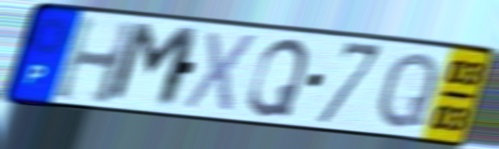7: (313, 39, 387, 127)
H: (50, 12, 142, 108)
M: (102, 20, 204, 112)
Q: (375, 49, 443, 131), (245, 36, 312, 119)
X: (180, 28, 262, 117)
